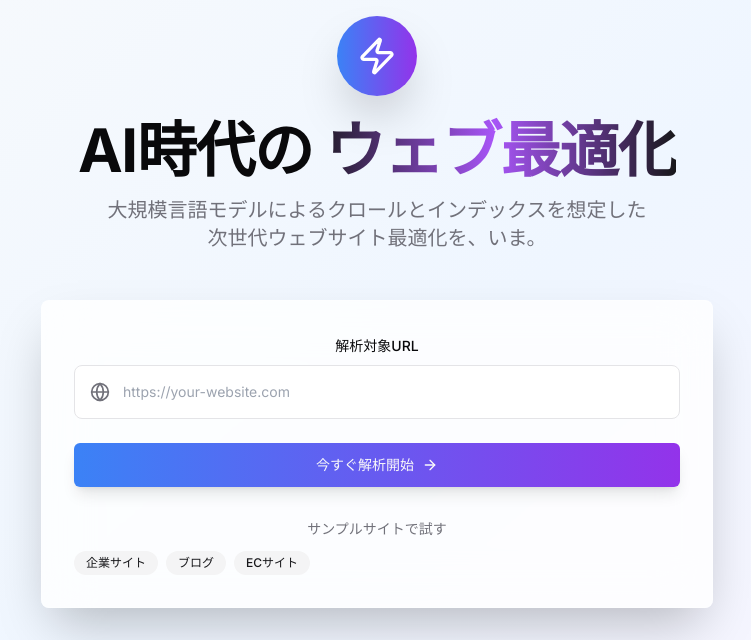
Scenario: UrlInput Component › should show error for invalid URL
Step 1. Type "invalid-url" into the field → (377, 392), box [74, 365, 680, 419]
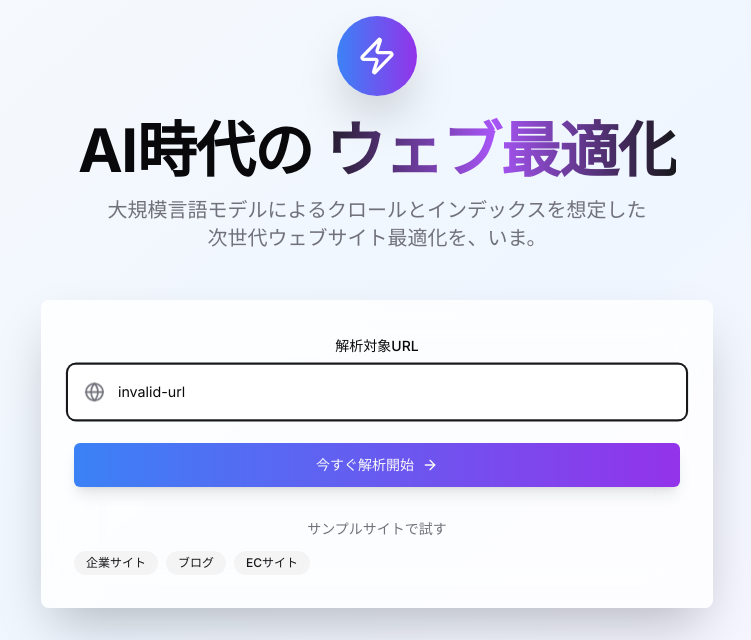
Step 2. Click the button "今すぐ解析開始" → (377, 465), box [74, 443, 680, 487]
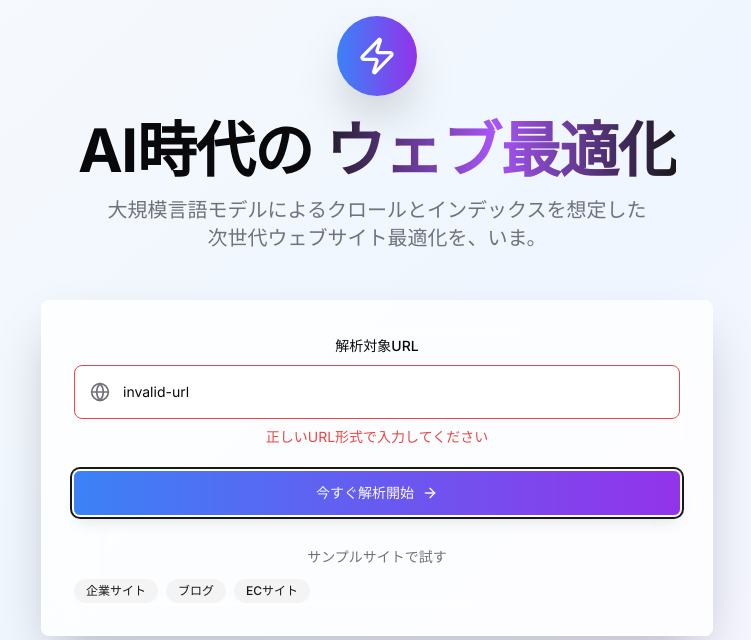
Expected: the text "正しいURL形式で入力してください" is shown, [266, 428, 488, 445]
